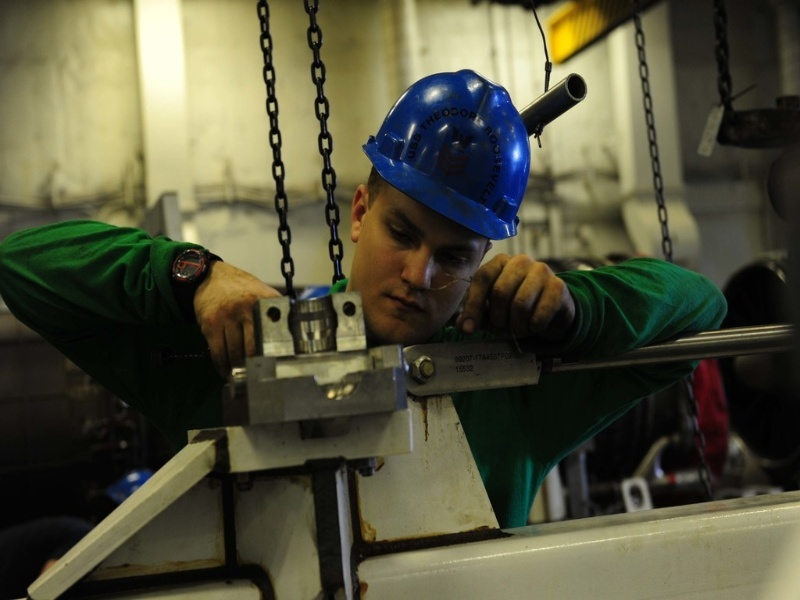baret: (361, 69, 530, 243)
